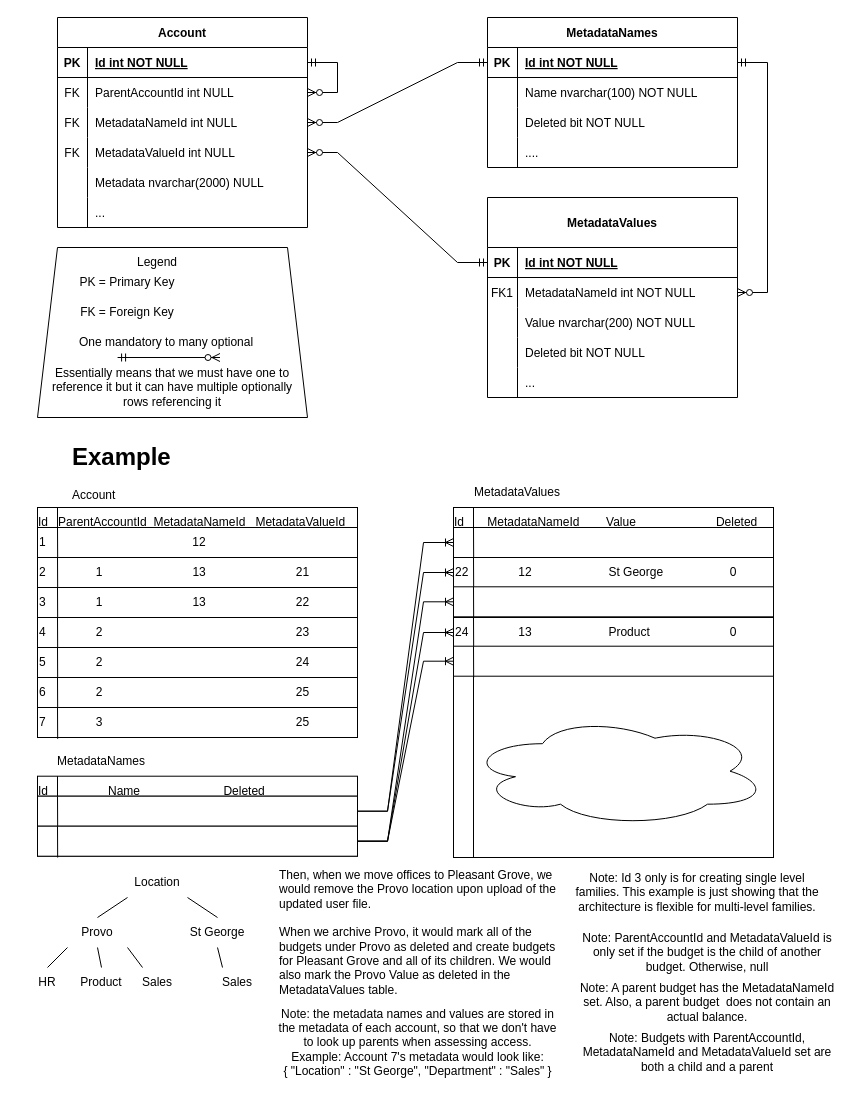
Image size: 854x1096. Some labels were removed from this diagram. The shapes that lost their labels are listed below. From the top down, each one's centre as x and y in pixels, then its label:
At (x=613, y=542): "21 12 Provo 0".
At (x=613, y=601): "23 13 HR 0".
At (x=613, y=660): "25 13 Sales 0".
At (x=617, y=770): "How will we handle null or undefined?".
At (x=197, y=810): "12 Location 0".
At (x=197, y=840): "13 Department 0".
